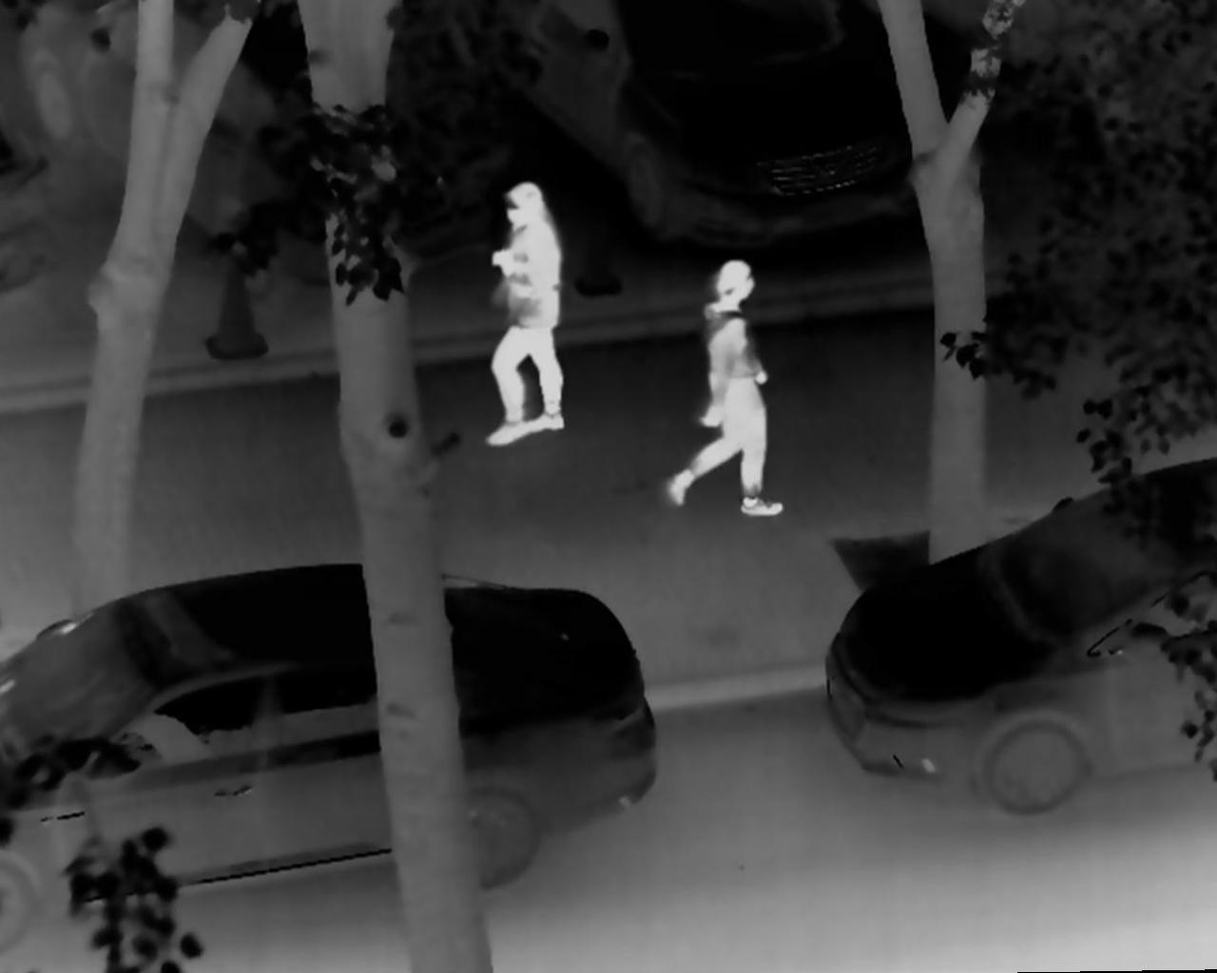person: (654, 256, 789, 520), (472, 181, 575, 446)
